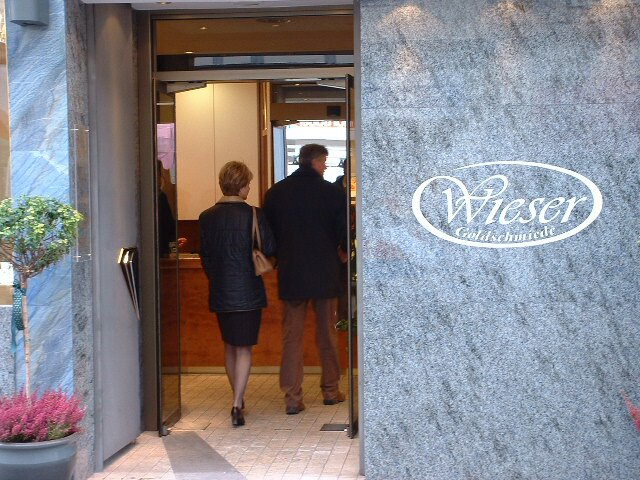person: (254, 137, 356, 419), (193, 153, 272, 434)
